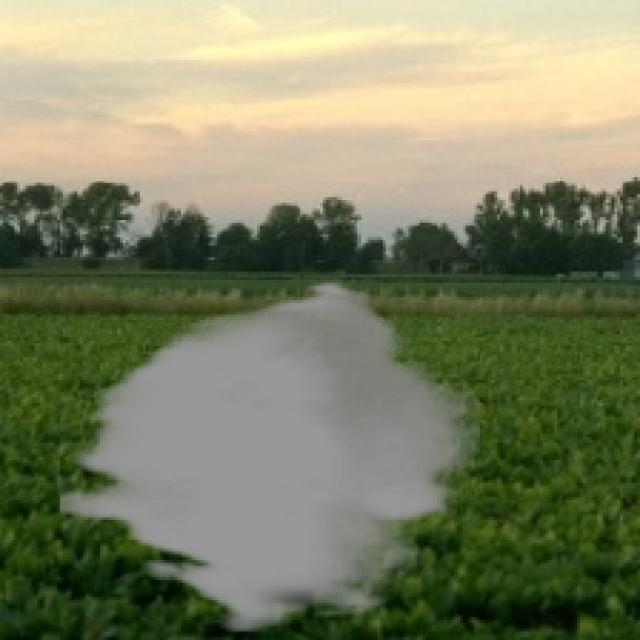smoke: (60, 280, 480, 634)
